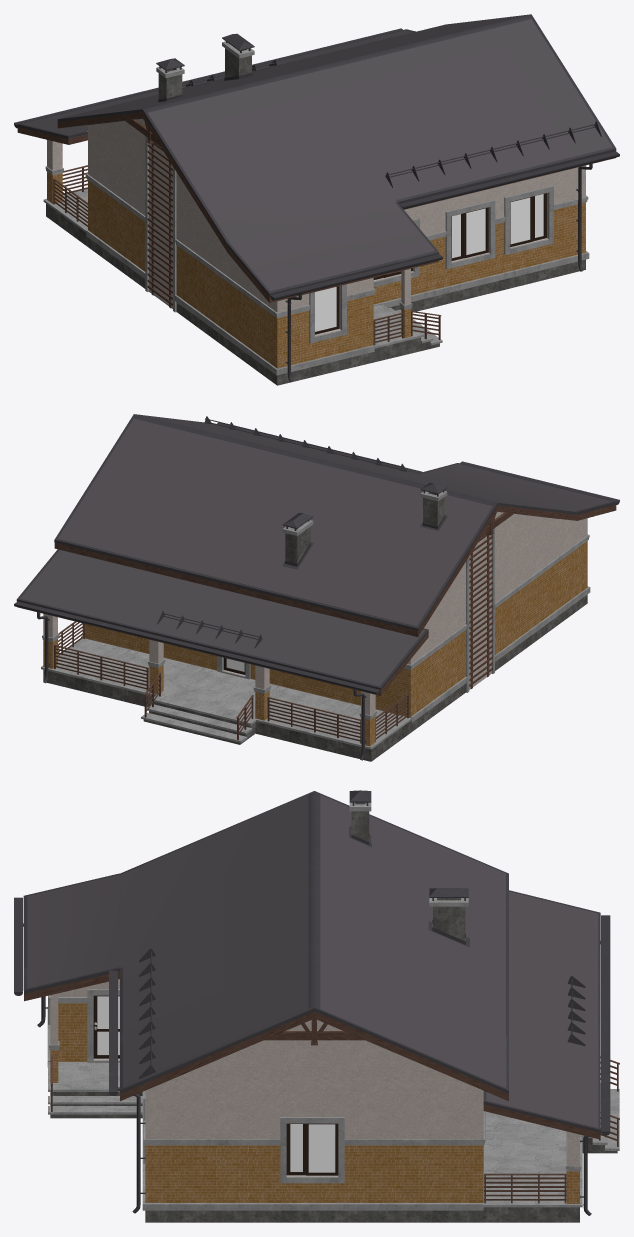
The model's file is Cottage.gltf.
The picture shows the model from 3 angles, top to bottom: view 1: azimuth 30°, elevation 25°; view 2: azimuth 150°, elevation 25°; view 3: azimuth 270°, elevation 25°; orthographic projection. The views are drawn at different scales.
Visible parts, largest first — view 1: Cottage_Free; view 2: Cottage_Free; view 3: Cottage_Free.
Boxes of the visible parts, bbox=[...] form: Cottage_Free: bbox=[14, 14, 619, 385]; Cottage_Free: bbox=[14, 414, 619, 761]; Cottage_Free: bbox=[14, 790, 619, 1222].
Size of what is drawn, in the model's own units: 12.44 by 6.75 by 14.65.
1 material, 1 textured.
